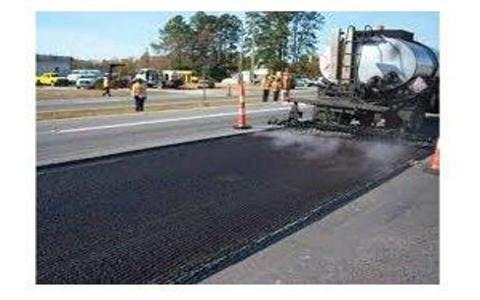Proper road: (102, 152, 285, 244)
